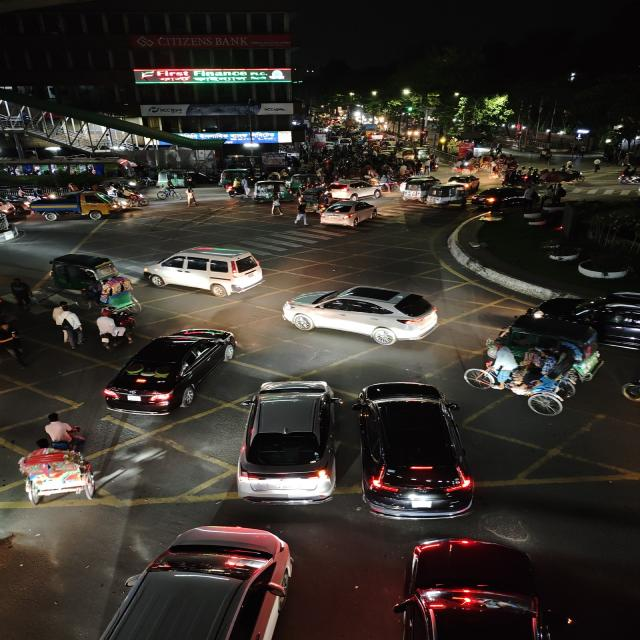bicycle: (152, 184, 184, 200)
car: (77, 523, 306, 640), (385, 535, 568, 640), (349, 379, 476, 523), (235, 376, 346, 506), (98, 323, 241, 418), (280, 280, 443, 346), (516, 290, 640, 349), (141, 244, 272, 299), (316, 198, 381, 228), (472, 186, 529, 208), (332, 179, 382, 199)
cng: (45, 251, 113, 294), (425, 185, 468, 208), (405, 180, 436, 204), (253, 180, 282, 202)
pedestrian: (50, 302, 84, 350), (0, 314, 29, 368), (92, 308, 119, 347), (7, 276, 35, 312), (180, 188, 202, 209), (552, 183, 568, 204), (270, 197, 286, 217), (590, 157, 604, 173)
pickup_van: (25, 191, 115, 221)
rickshaw: (471, 338, 585, 414), (0, 428, 105, 506), (501, 160, 586, 188), (96, 282, 147, 315), (450, 158, 479, 174), (479, 154, 494, 170)
